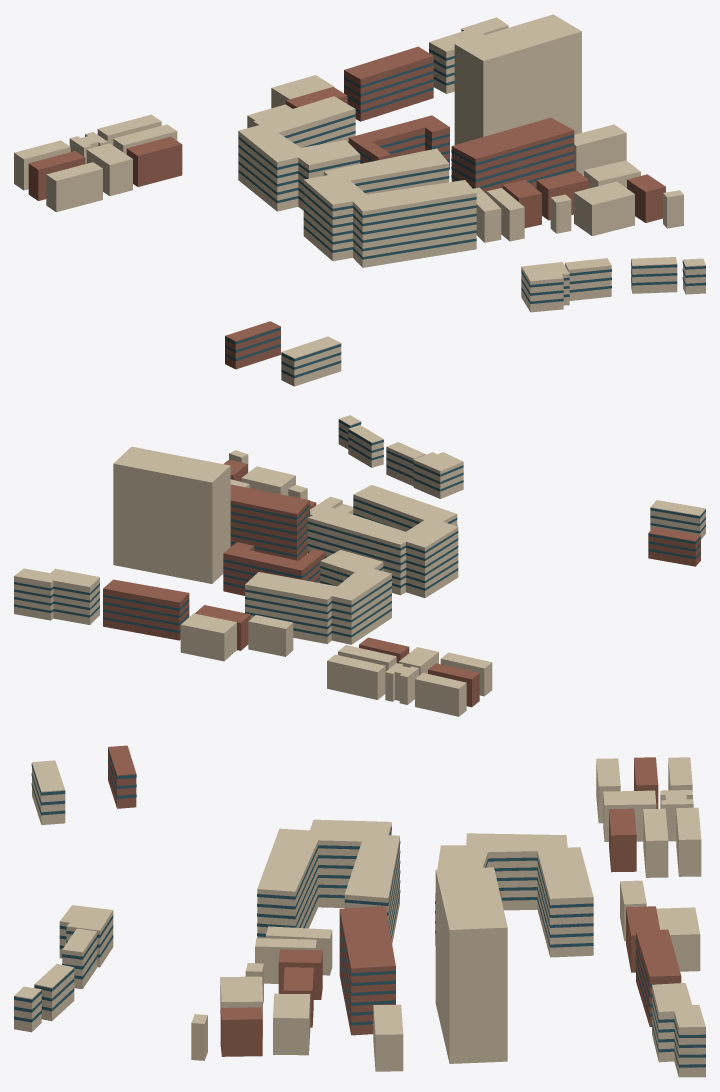
File: city_0_-7.glb
3 renders of one model, top to bottom at view 1: azimuth 30°, elevation 25°; view 2: azimuth 150°, elevation 25°; view 3: azimuth 270°, elevation 25°, orthographic. The views are drawn at different scales.
Parts seen in each view (by area): view 1: city_0_-7; view 2: city_0_-7; view 3: city_0_-7.
Boxes of the visible parts, x1,y1,x2,y2 form: city_0_-7: (14, 14, 705, 386); city_0_-7: (14, 415, 705, 716); city_0_-7: (14, 745, 705, 1077).
Bounding box in the file's own units: 260 × 54.4 × 255.
